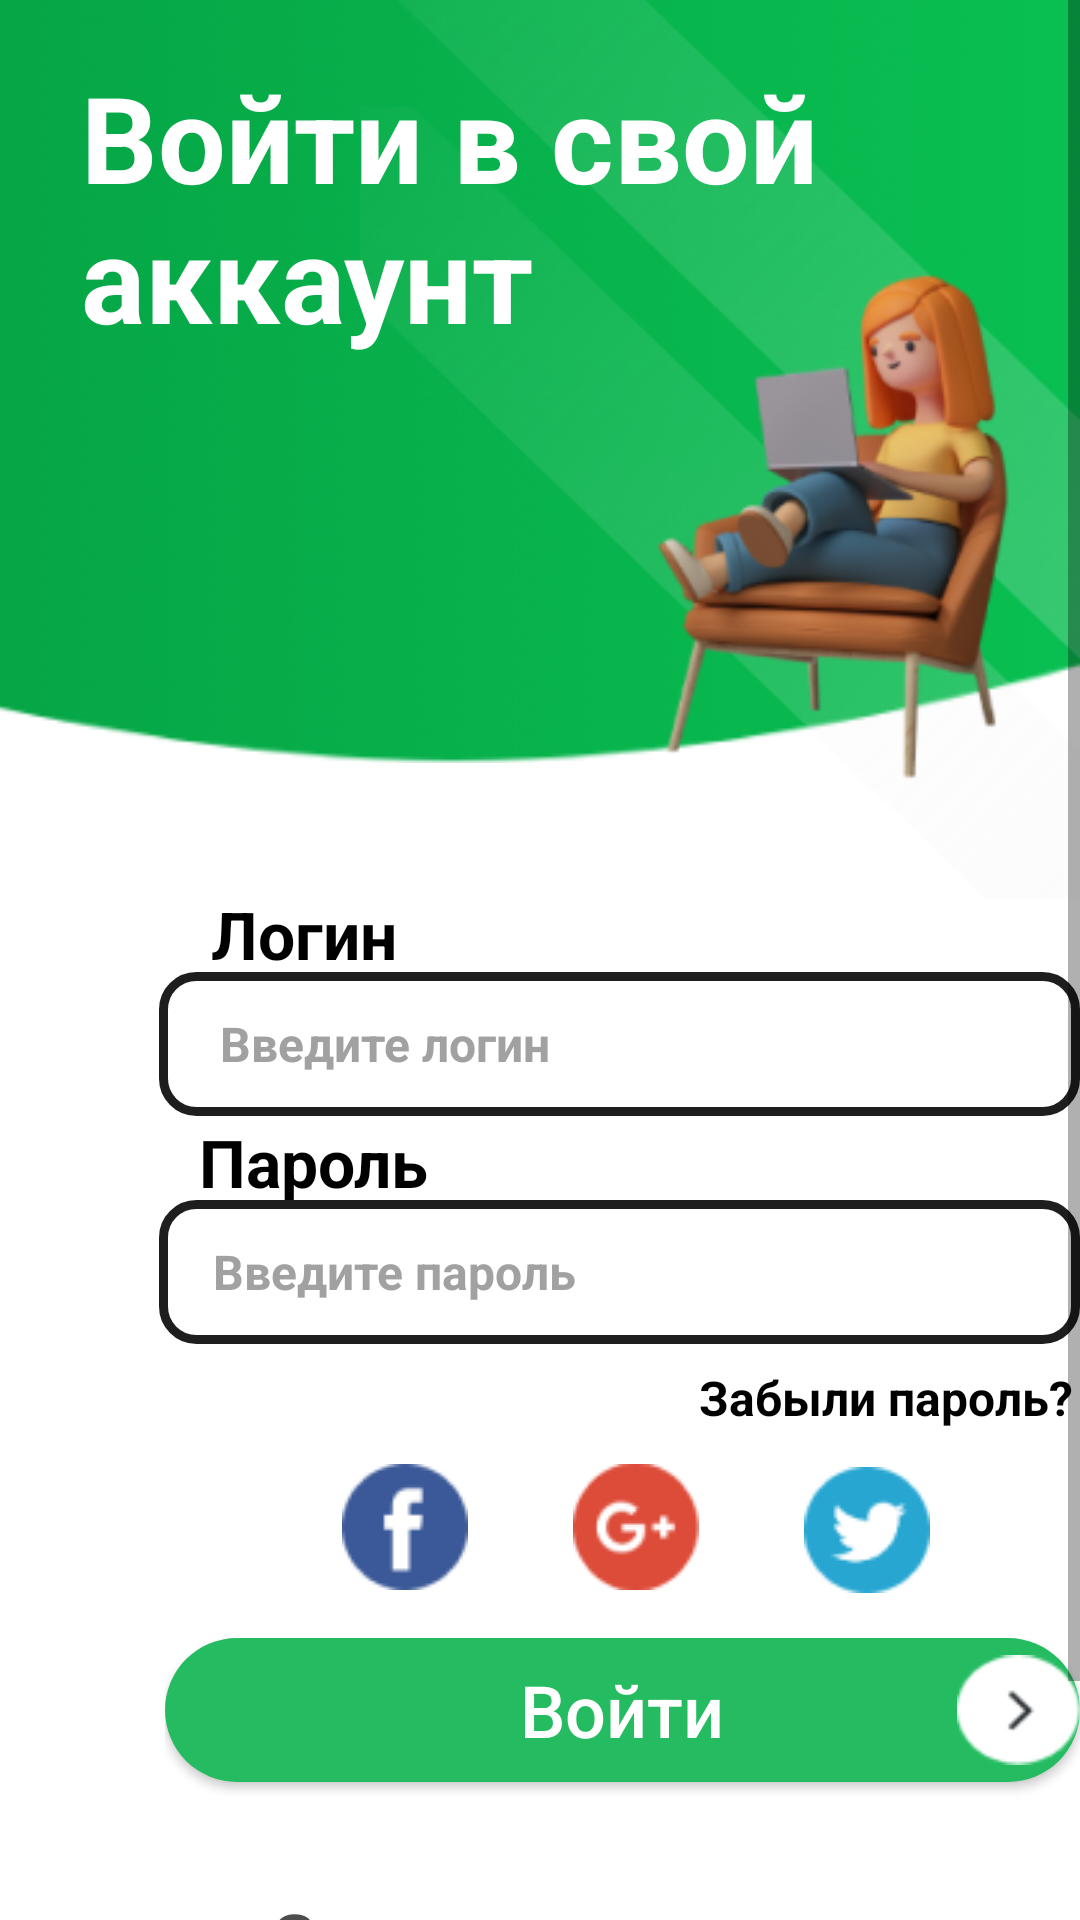

Icon bounding boxes for this 1080w x 1920h phone screenshot, format (x1, y1, x2, y2):
circle: (957, 1650, 1080, 1770)
